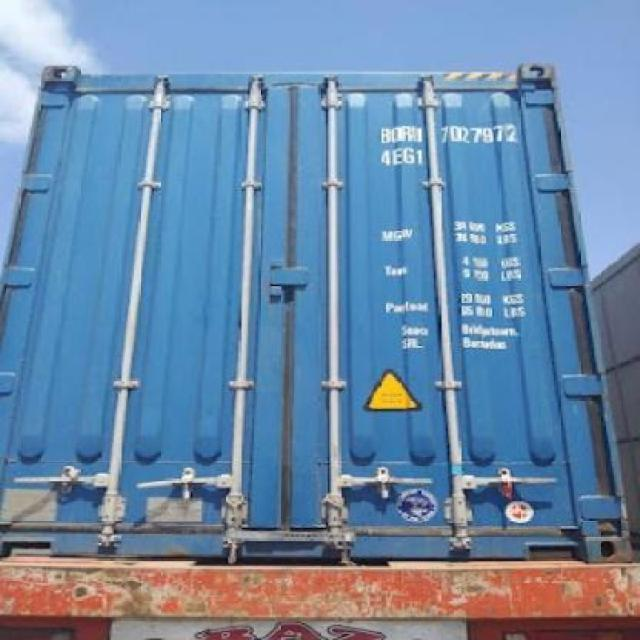ISO: (379, 145, 431, 164)
container_number: (377, 126, 513, 144)
